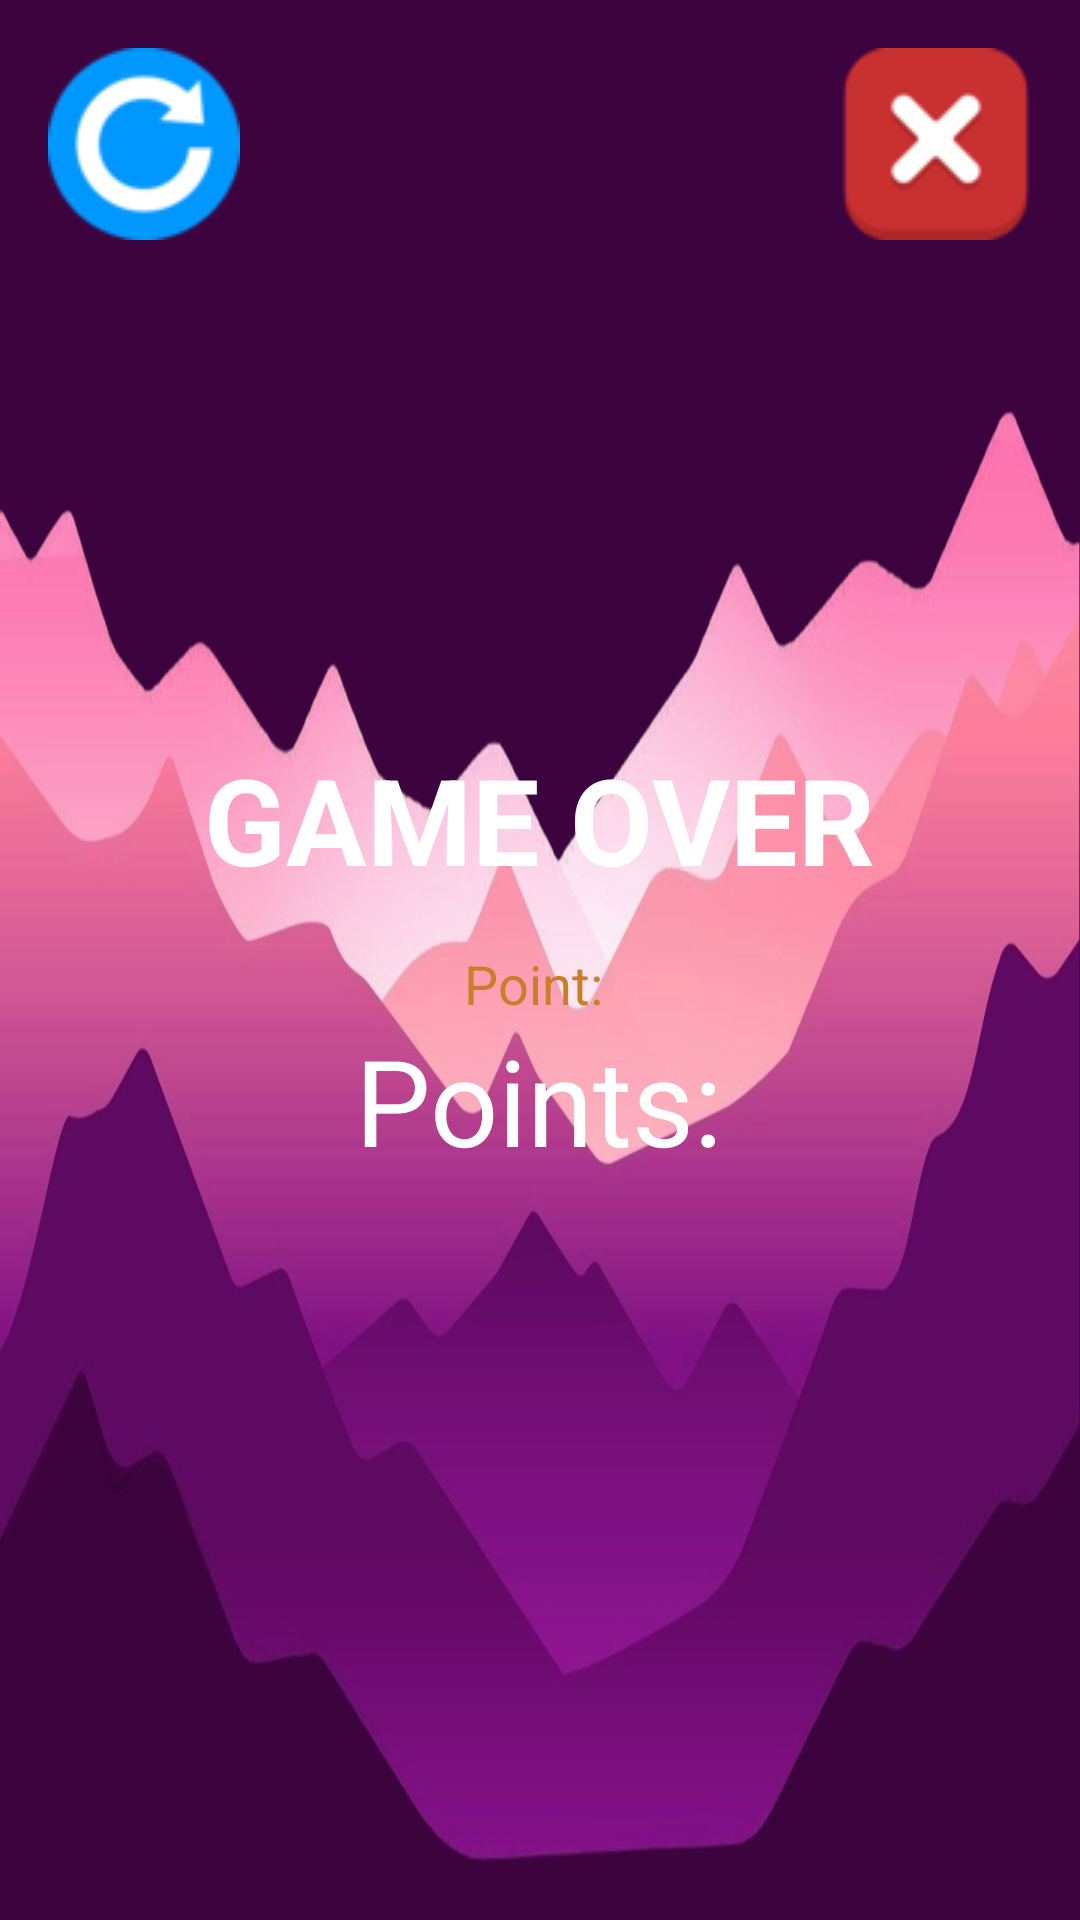

Screen size 1080x1920. Icon name, then its box in pixels as rect(x1, y1, x2, y2):
exit: rect(843, 48, 1029, 240)
restart: rect(48, 48, 240, 240)
